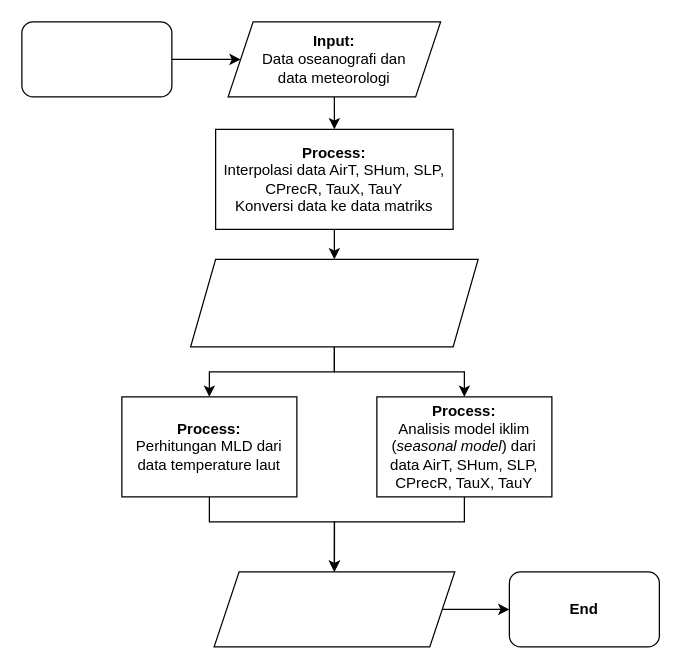
This 681x669 diagram has some shape labels left out. The centre of each missing label's shape, as x and y in pixels:
"Output: Hasil analisis hubungan MLD dan seasonal model" belongs at [334,609].
"Output: Peta arus, elevasi, temperature, dan data meteorologi" belongs at [333,302].
"Start" belongs at [96,59].
